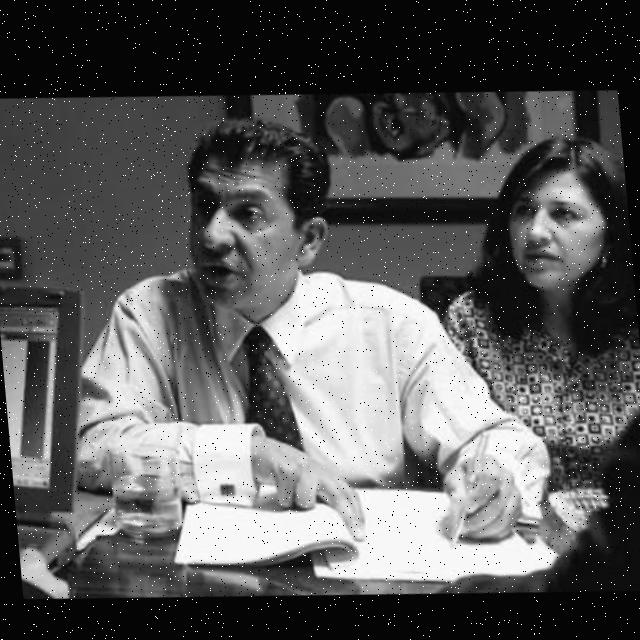face: (159, 149, 352, 312), (467, 168, 616, 293)
